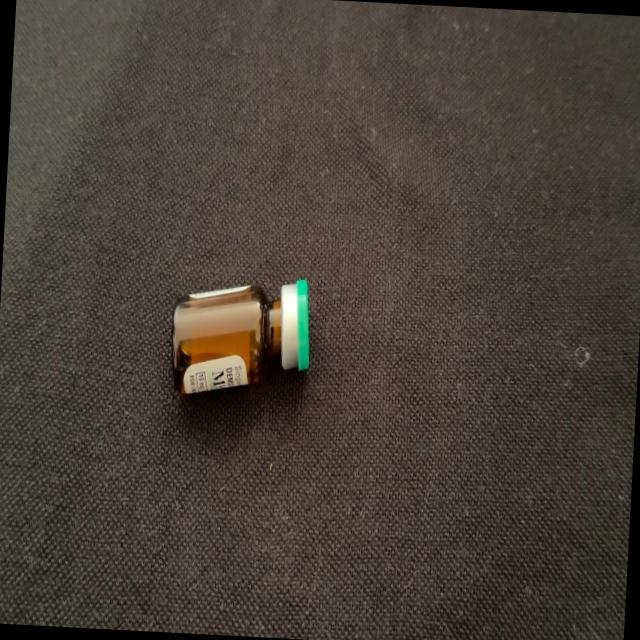midazolm: (171, 276, 311, 400)
